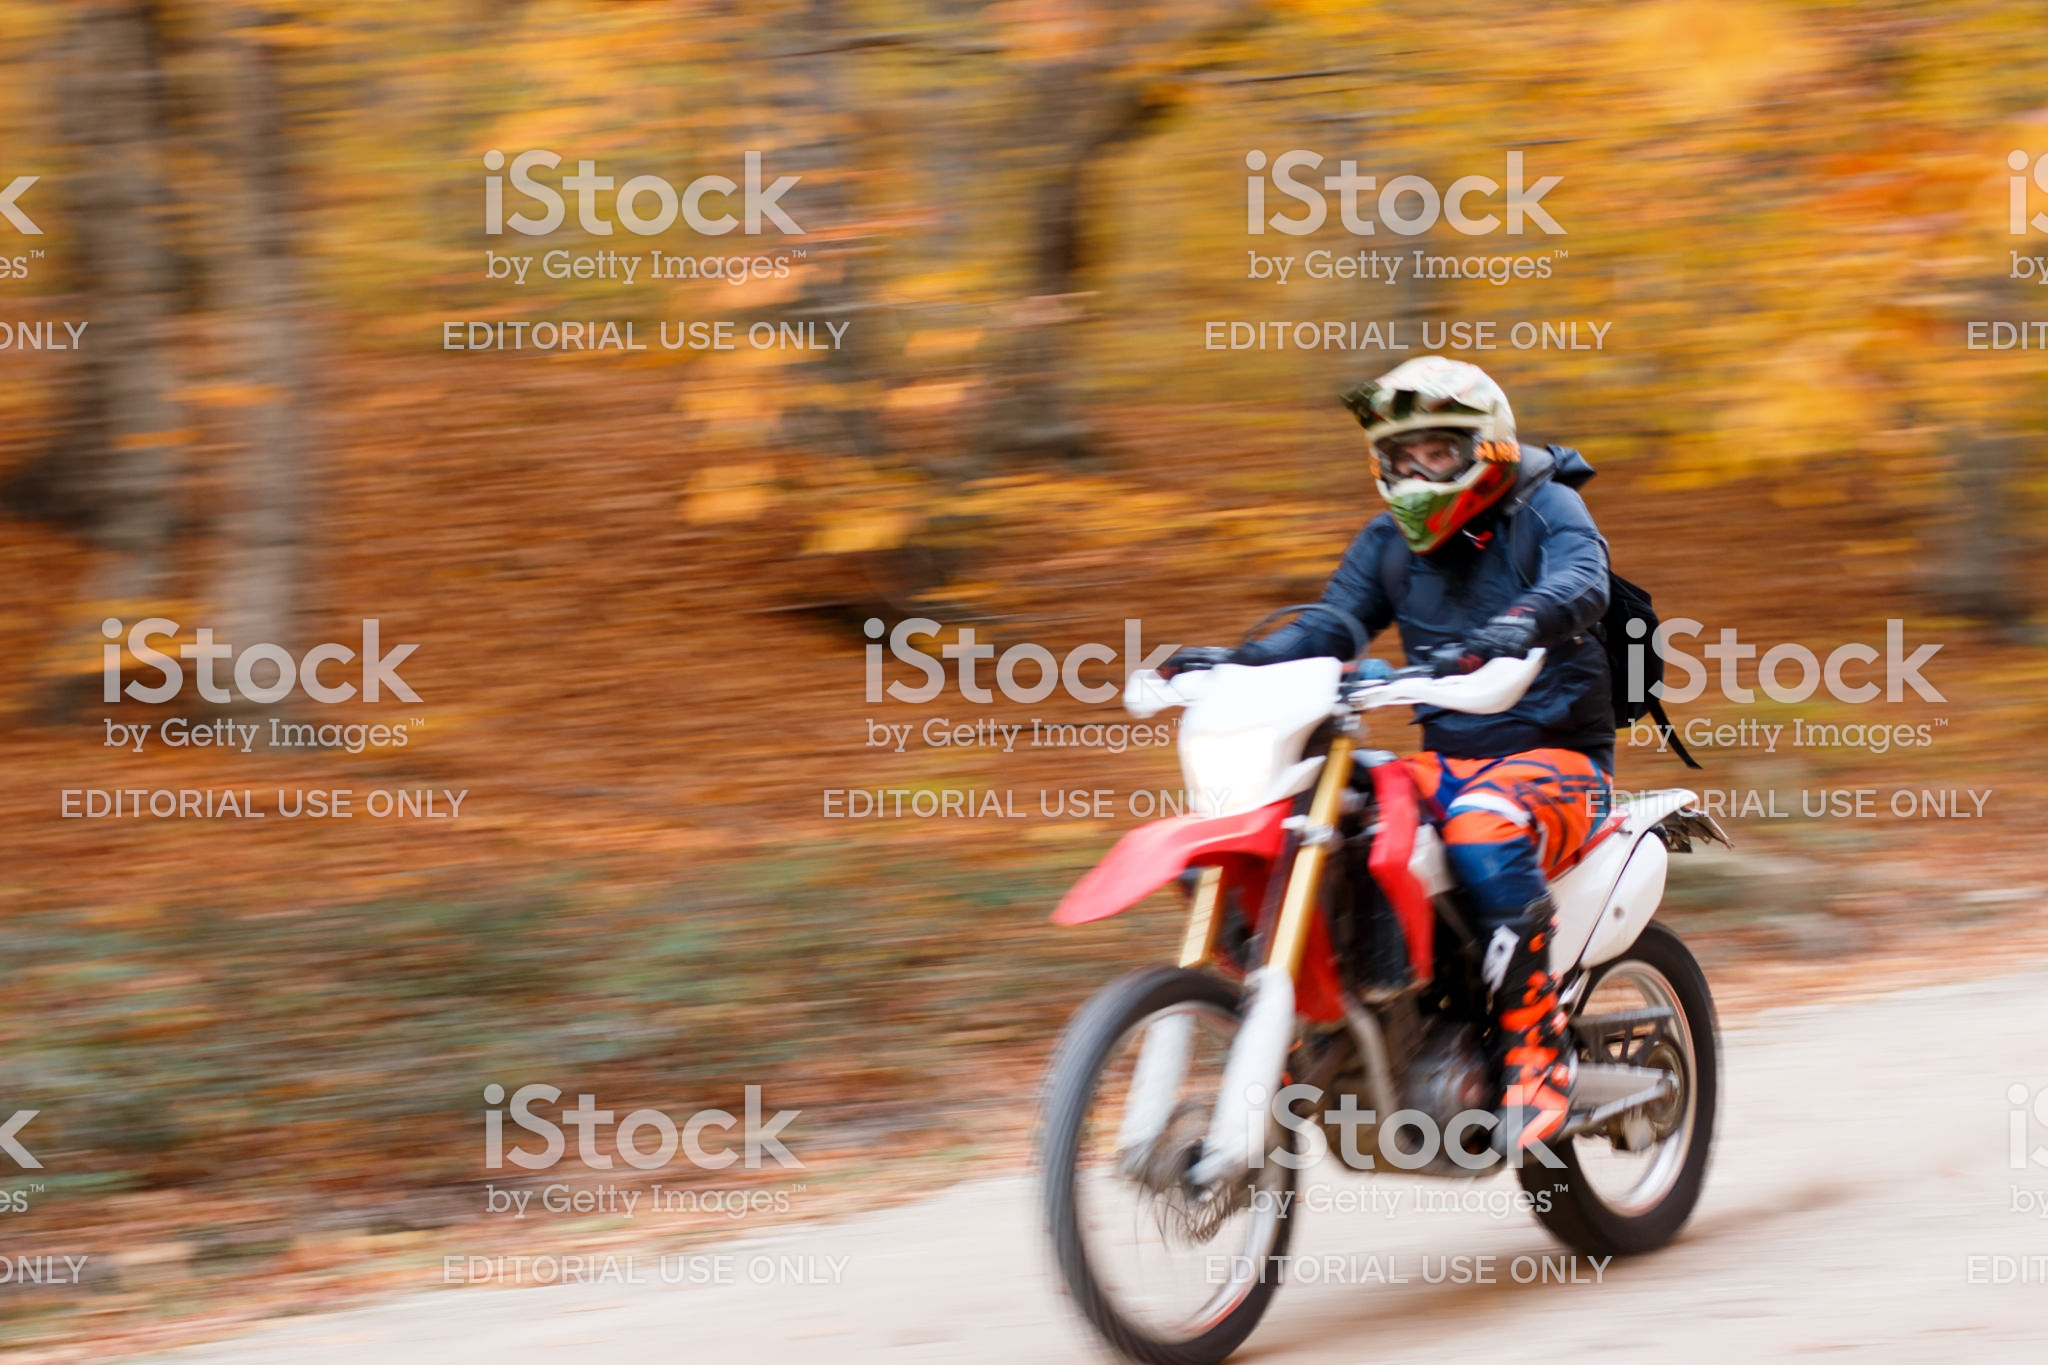helmet: (1331, 340, 1515, 516)
